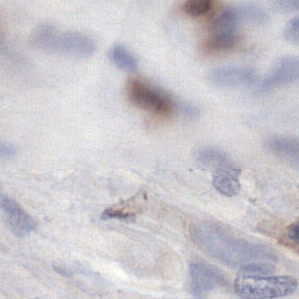Lymphocyte: (129, 77, 175, 114)
